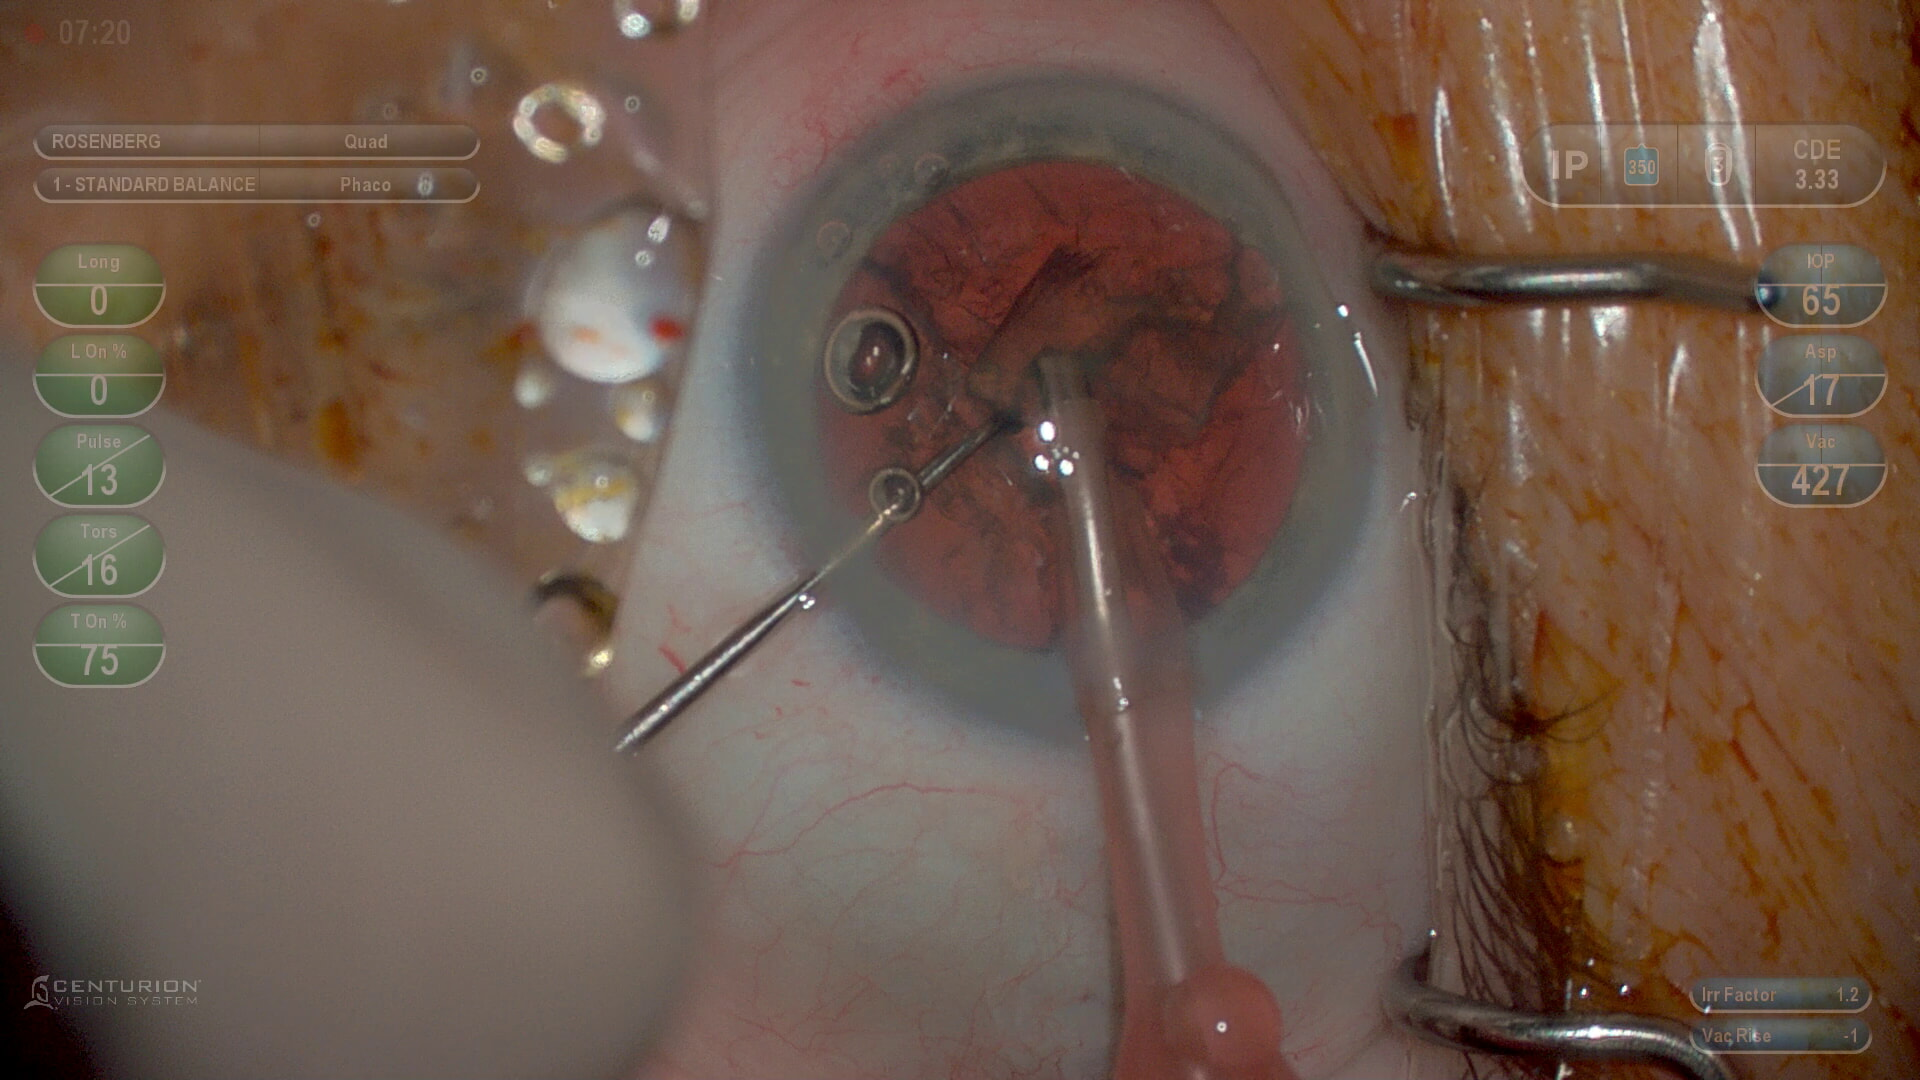iris: (745, 73, 1372, 729)
pupil: (803, 158, 1308, 651)
